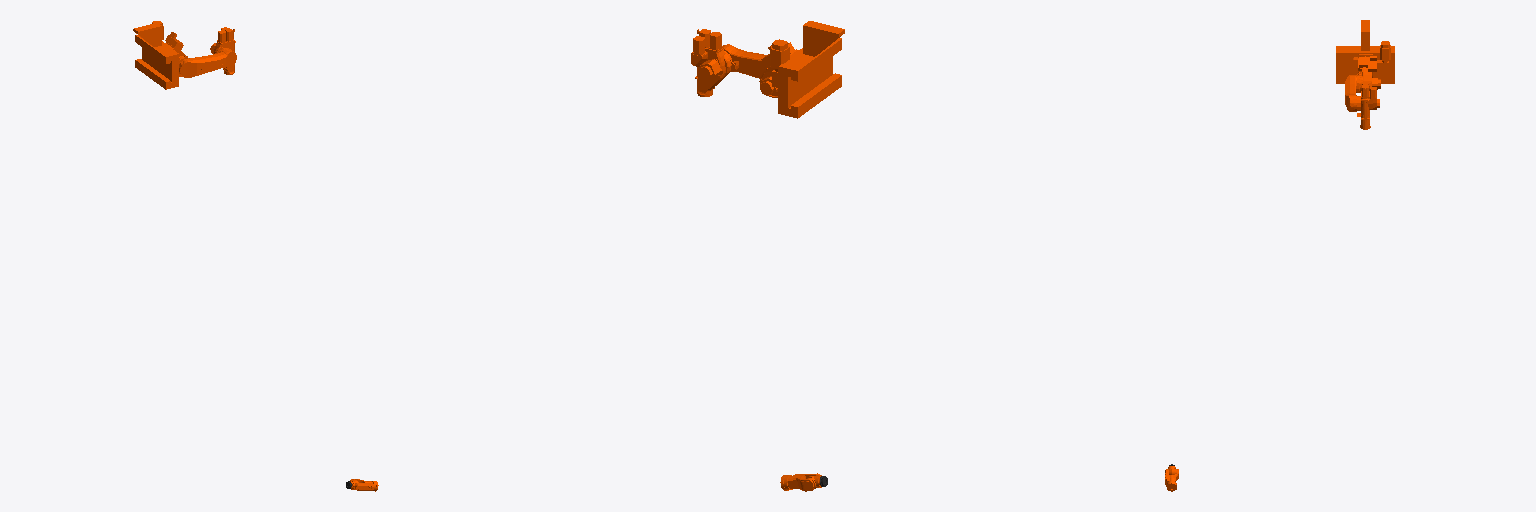
The robot description file, URDF, robot "kuka_kr_60l45_jet_wall":
<?xml version="1.0"?>
<robot name="kuka_kr_60l45_jet_wall">
  <material name="kuka_orange"><color rgba="1.00 0.40 0.00 1.0"/></material>
  <material name="kuka_dark_gray"><color rgba="0.20 0.20 0.20 1.0"/></material>

  <link name="base_link">
    <inertial>
      <origin xyz="0.094016 -0.078607 -0.023578" rpy="0 0 0"/>
      <mass value="106.667"/>
      <inertia ixx="4.703241" ixy="-1.147947" ixz="0.172808" iyy="5.303480" iyz="0.026577" izz="8.797318"/>
    </inertial>
    <visual>
      <origin xyz="0 0 0" rpy="0 0 0"/>
      <geometry><mesh filename="meshes/visual/base_link.stl"/></geometry>
      <material name="kuka_dark_gray"/>
    </visual>
    <collision>
      <origin xyz="0 0 0" rpy="0 0 0"/>
      <geometry><mesh filename="meshes/visual/base_link.stl"/></geometry>
    </collision>
  </link>

  <link name="link_1">
    <inertial>
      <origin xyz="-0.325537 0.033619 0.222437" rpy="0 0 0"/>
      <mass value="80.700"/>
      <inertia ixx="5.602860" ixy="-0.252644" ixz="0.851977" iyy="5.536150" iyz="-0.192753" izz="4.502110"/>
    </inertial>
    <visual>
      <origin xyz="0 0 0" rpy="0 0 0"/>
      <geometry><mesh filename="meshes/visual/link_1.stl"/></geometry>
      <material name="kuka_orange"/>
    </visual>
    <collision>
      <origin xyz="0 0 0" rpy="0 0 0"/>
      <geometry><mesh filename="meshes/visual/link_1.stl"/></geometry>
    </collision>
  </link>

  <link name="link_2">
    <inertial>
      <origin xyz="0.489117 -0.210144 0.001460" rpy="0 0 0"/>
      <mass value="405.000"/>
      <inertia ixx="4.796299" ixy="-2.334463" ixz="0.087670" iyy="32.178672" iyz="-0.006017" izz="32.224008"/>
    </inertial>
    <visual>
      <origin xyz="0 0 0" rpy="0 0 0"/>
      <geometry><mesh filename="meshes/visual/link_2.stl"/></geometry>
      <material name="kuka_orange"/>
    </visual>
    <collision>
      <origin xyz="0 0 0" rpy="0 0 0"/>
      <geometry><mesh filename="meshes/visual/link_2.stl"/></geometry>
    </collision>
  </link>

  <link name="link_3">
    <inertial>
      <origin xyz="0.068783 0.040088 0.055306" rpy="0 0 0"/>
      <mass value="151.900"/>
      <inertia ixx="4.901260" ixy="-0.059276" ixz="-0.085758" iyy="5.153598" iyz="-0.262002" izz="2.001578"/>
    </inertial>
    <visual>
      <origin xyz="0 0 0" rpy="0 0 0"/>
      <geometry><mesh filename="meshes/visual/link_3.stl"/></geometry>
      <material name="kuka_orange"/>
    </visual>
    <collision>
      <origin xyz="0 0 0" rpy="0 0 0"/>
      <geometry><mesh filename="meshes/visual/link_3.stl"/></geometry>
    </collision>
  </link>

  <link name="link_4">
    <inertial>
      <origin xyz="0.706429 -3.510404 -6.488183" rpy="0 0 0"/>
      <mass value="49.800"/>
      <inertia ixx="0.363786" ixy="0.031414" ixz="0.124843" iyy="0.686898" iyz="-0.007446" izz="0.788757"/>
    </inertial>
    <visual>
      <origin xyz="0 0 0" rpy="0 0 0"/>
      <geometry><mesh filename="meshes/visual/link_4.stl"/></geometry>
      <material name="kuka_orange"/>
    </visual>
    <collision>
      <origin xyz="0 0 0" rpy="0 0 0"/>
      <geometry><mesh filename="meshes/visual/link_4.stl"/></geometry>
    </collision>
  </link>

  <link name="link_5">
    <inertial>
      <origin xyz="0.497198 -3.486943 -6.032444" rpy="0 0 0"/>
      <mass value="38.200"/>
      <inertia ixx="0.159603" ixy="-0.015392" ixz="0.010567" iyy="0.192587" iyz="0.003862" izz="0.196880"/>
    </inertial>
    <visual>
      <origin xyz="0 0 0" rpy="0 0 0"/>
      <geometry><mesh filename="meshes/visual/link_5.stl"/></geometry>
      <material name="kuka_orange"/>
    </visual>
    <collision>
      <origin xyz="0 0 0" rpy="0 0 0"/>
      <geometry><mesh filename="meshes/visual/link_5.stl"/></geometry>
    </collision>
  </link>

  <link name="link_6">
    <inertial>
      <origin xyz="0.382655 -3.502623 -5.831968" rpy="0 0 0"/>
      <mass value="20.400"/>
      <inertia ixx="0.050614" ixy="-0.000013" ixz="-0.003486" iyy="0.039664" iyz="-0.000047" izz="0.038687"/>
    </inertial>
    <visual>
      <origin xyz="0 0 0" rpy="0 0 0"/>
      <geometry><mesh filename="meshes/visual/link_6.stl"/></geometry>
      <material name="kuka_dark_gray"/>
    </visual>
    <collision>
      <origin xyz="0 0 0" rpy="0 0 0"/>
      <geometry><mesh filename="meshes/visual/link_6.stl"/></geometry>
    </collision>
  </link>

  <link name="tool0"/>

  <joint name="joint_a1" type="revolute">
    <parent link="base_link"/>
    <child link="link_1"/>
    <origin xyz="0.000000 0.000000 0.000000" rpy="0 0 0"/>
    <axis xyz="0.0 0.0 -1.0"/>
    <limit lower="-62.831853" upper="62.831853" effort="5000.0" velocity="19.634954"/>
    <dynamics damping="5.0" friction="1.0"/>
  </joint>

  <joint name="joint_a2" type="revolute">
    <parent link="link_1"/>
    <child link="link_2"/>
    <origin xyz="0.000000 0.000000 0.000000" rpy="0 0 0"/>
    <axis xyz="0.0 1.0 0.0"/>
    <limit lower="-1.570796" upper="1.570796" effort="4250.0" velocity="2.264211"/>
    <dynamics damping="5.0" friction="1.0"/>
  </joint>

  <joint name="joint_a3" type="revolute">
    <parent link="link_2"/>
    <child link="link_3"/>
    <origin xyz="0.850000 0.000000 0.000000" rpy="0 0 0"/>
    <axis xyz="0.0 1.0 0.0"/>
    <limit lower="-3.665191" upper="1.186824" effort="4250.0" velocity="3.193581"/>
    <dynamics damping="5.0" friction="1.0"/>
  </joint>

  <joint name="joint_a4" type="revolute">
    <parent link="link_3"/>
    <child link="link_4"/>
    <origin xyz="0.145000 0.000000 -0.620000" rpy="0 0 0"/>
    <axis xyz="-1.0 0.0 -0.0"/>
    <limit lower="-6.108652" upper="6.108652" effort="300.0" velocity="5.511981"/>
    <dynamics damping="5.0" friction="1.0"/>
  </joint>

  <joint name="joint_a5" type="revolute">
    <parent link="link_4"/>
    <child link="link_5"/>
    <origin xyz="0.000000 0.000000 -0.400000" rpy="0 0 0"/>
    <axis xyz="1.0 0.0 0.0"/>
    <limit lower="-2.076942" upper="2.076942" effort="380.0" velocity="5.200084"/>
    <dynamics damping="5.0" friction="1.0"/>
  </joint>

  <joint name="joint_a6" type="revolute">
    <parent link="link_5"/>
    <child link="link_6"/>
    <origin xyz="0.000000 0.000000 -0.170000" rpy="0 0 0"/>
    <axis xyz="-1.0 0.0 -0.0"/>
    <limit lower="-6.108652" upper="6.108652" effort="200.0" velocity="6.837075"/>
    <dynamics damping="5.0" friction="1.0"/>
  </joint>

  <joint name="link_6-tool0" type="fixed">
    <parent link="link_6"/>
    <child link="tool0"/>
    <origin xyz="0.000000 0.000000 0.000000" rpy="0 1.57079632679 0"/>
  </joint>
</robot>

--- Render facts (derived) ---
Views: 3 orthographic renders of the robot side by side, from view 1: azimuth 30°, elevation 25°; view 2: azimuth 150°, elevation 25°; view 3: azimuth 270°, elevation 25°.
Robot: kuka_kr_60l45_jet_wall — 8 links, 7 joints (6 revolute, 1 fixed); root link base_link; default pose: every joint at zero.
Visible links, largest first — view 1: link_1, link_2; view 2: link_1, link_3, link_2; view 3: link_1, link_3.
Boxes of the visible links, x1=… form: link_1: x1=133, y1=21, x2=187, y2=89; link_2: x1=179, y1=47, x2=236, y2=77; link_1: x1=759, y1=21, x2=844, y2=118; link_3: x1=691, y1=29, x2=735, y2=96; link_2: x1=723, y1=44, x2=769, y2=78; link_1: x1=1336, y1=20, x2=1394, y2=92; link_3: x1=1357, y1=82, x2=1379, y2=129.
Bounding box of the posed robot: 2.83 × 4.15 × 8.11 m (x, y, z).
Meshes: 7 distinct files referenced, 6 mesh visuals loaded (6 binary STL); not drawn: 1 (reference not matched to a file when rendering).
